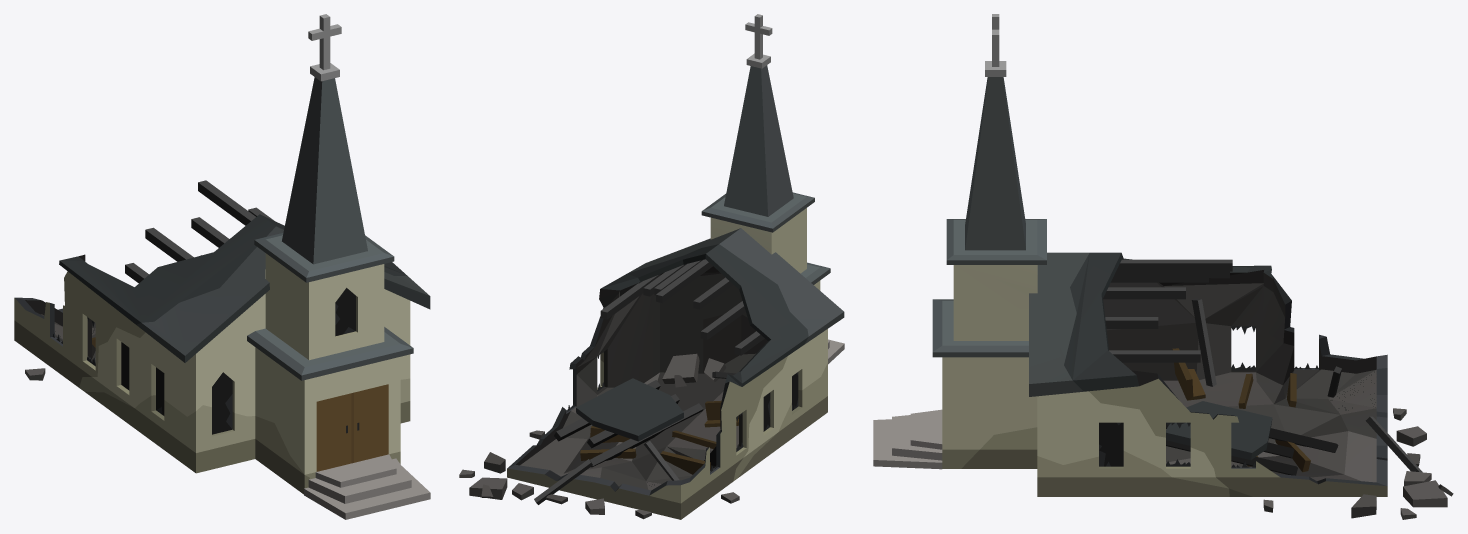
File: SA_Bld_Church_Damaged_01.glb
3 renders of one model, left to right at view 1: azimuth 30°, elevation 25°; view 2: azimuth 150°, elevation 25°; view 3: azimuth 270°, elevation 25°, orthographic. The views are drawn at different scales.
Visible parts, largest first — view 1: SA_Bld_Church_Damaged_01; view 2: SA_Bld_Church_Damaged_01; view 3: SA_Bld_Church_Damaged_01.
Boxes of the visible parts, box(x1,y1,x2,y2) form: SA_Bld_Church_Damaged_01: box(14, 14, 430, 519); SA_Bld_Church_Damaged_01: box(459, 14, 844, 519); SA_Bld_Church_Damaged_01: box(873, 14, 1453, 519).
Size of the model in its own units: 5.4 by 8.09 by 9.69.
1 material, 1 textured.
